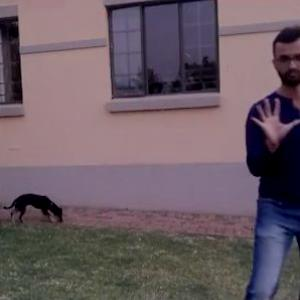follow_hand: (247, 93, 299, 153)
